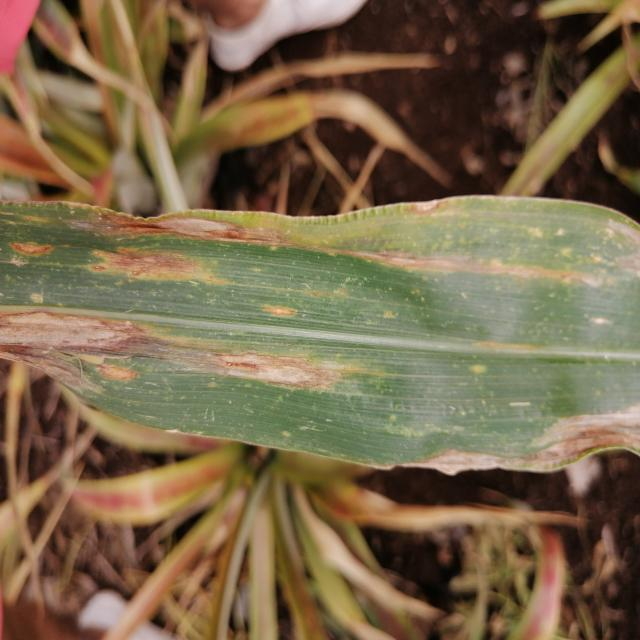Corn_Leaf_Blight: (0, 188, 640, 469)
